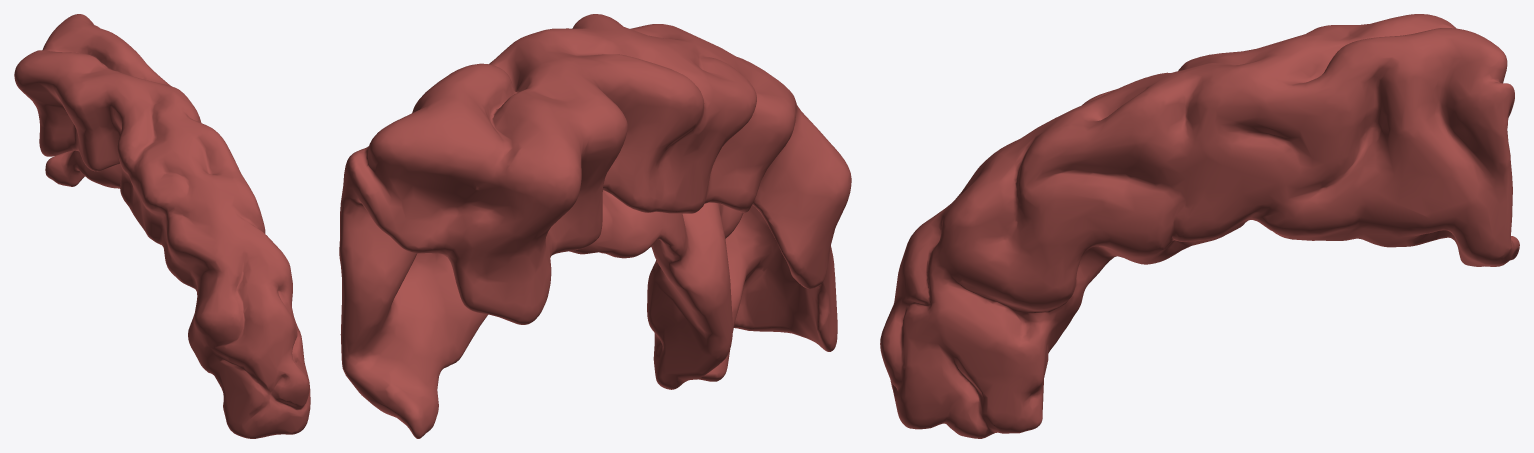
File: FMA72653.glb
3 renders of one model, left to right at view 1: azimuth 30°, elevation 25°; view 2: azimuth 150°, elevation 25°; view 3: azimuth 270°, elevation 25°, orthographic. The views are drawn at different scales.
Parts seen in each view (by area): view 1: FMA72653; view 2: FMA72653; view 3: FMA72653.
Boxes of the visible parts, bbox=[...] form: FMA72653: bbox=[14, 14, 310, 438]; FMA72653: bbox=[339, 14, 851, 438]; FMA72653: bbox=[880, 14, 1519, 438].
Size of the model in its own units: 0.0301 by 0.0742 by 0.1096.
